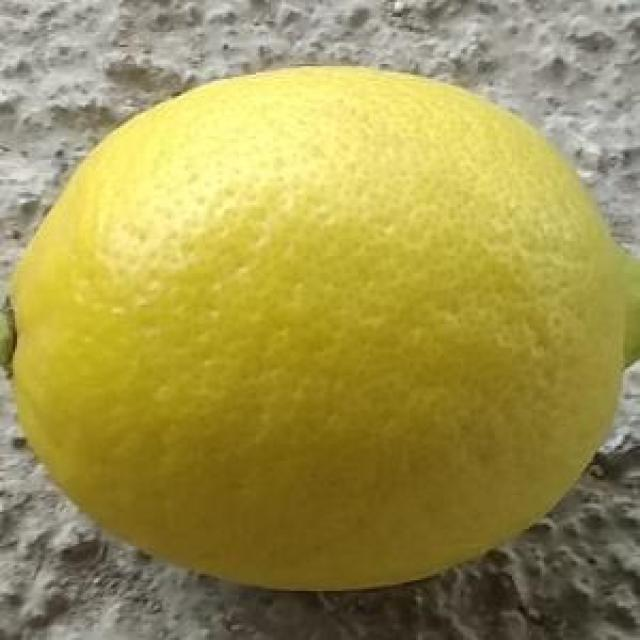lemon: (1, 64, 640, 592)
